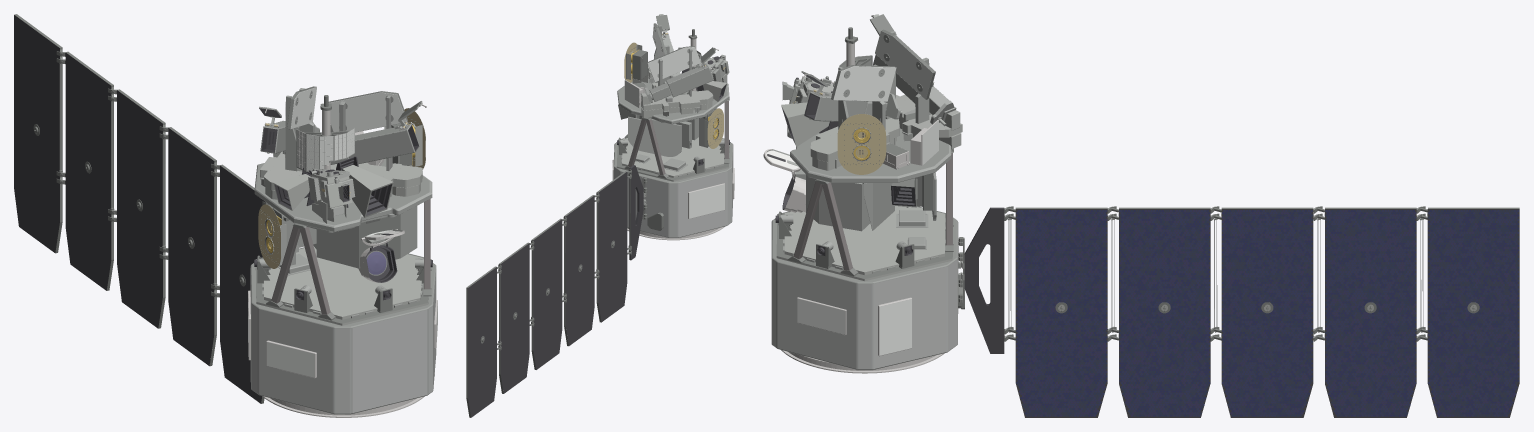
File: ionospheric-connection-explorer-icon.glb
The picture shows the model from 3 angles, left to right: view 1: azimuth 30°, elevation 25°; view 2: azimuth 150°, elevation 25°; view 3: azimuth 270°, elevation 25°; orthographic projection. The views are drawn at different scales.
Visible parts, largest first — view 1: BUS; view 2: BUS; view 3: BUS.
Part boxes in pixels (x1,y1,x2,y2): BUS: (14,14,437,417); BUS: (466,14,734,417); BUS: (763,14,1519,417).
Bounding box in the file's own units: 87.81 × 178 × 323.
Materials: 4 (4 with a texture image).
